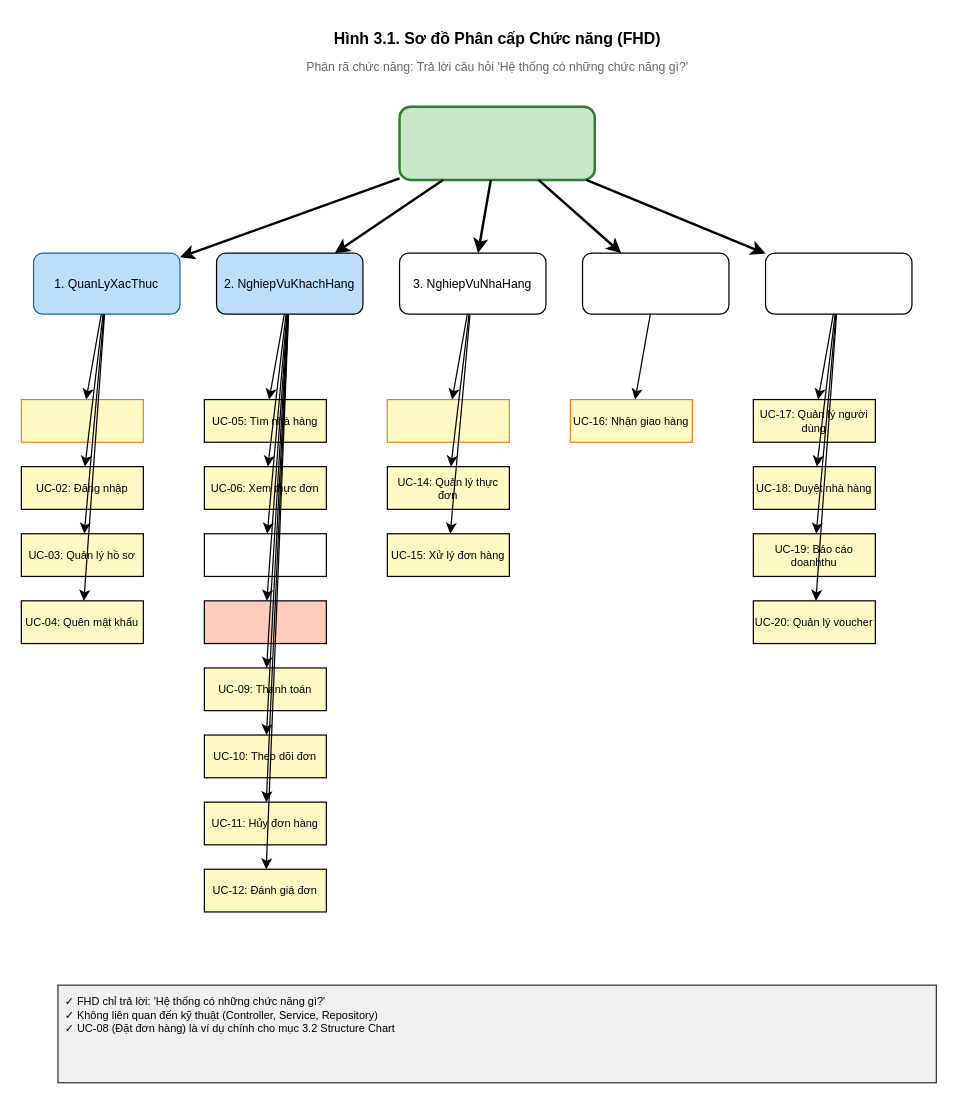
The diagram is 958 pixels wide and 1104 high, and some of its shapes have lost their labels. Here are the shapes that lost their labels. From the top down, the centre of each, then its label:
At pixel 496 143: "FoodDash System (Cấp 1)".
At pixel 655 283: "4. NghiepVuTaixe".
At pixel 838 283: "5. QuanTriHeThong".
At pixel 81 420: "UC-01: Đăng ký & OTP".
At pixel 447 420: "UC-13: Quản lý danh mục".
At pixel 264 554: "UC-07: Quản lý giỏ hàng".
At pixel 264 622: "UC-08: Đặt đơn hàng".
